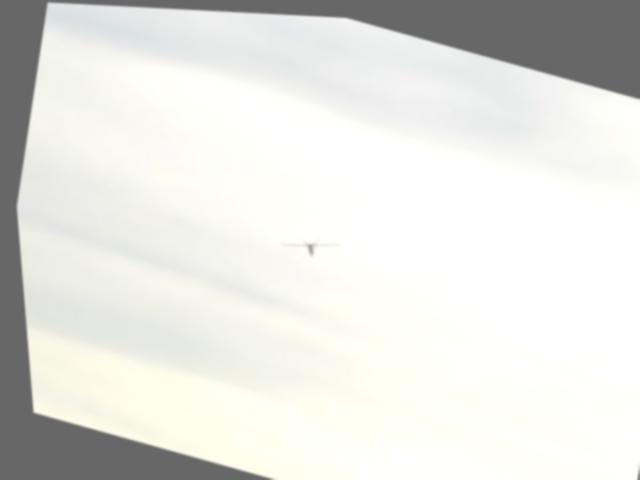uav: (267, 214, 344, 269)
